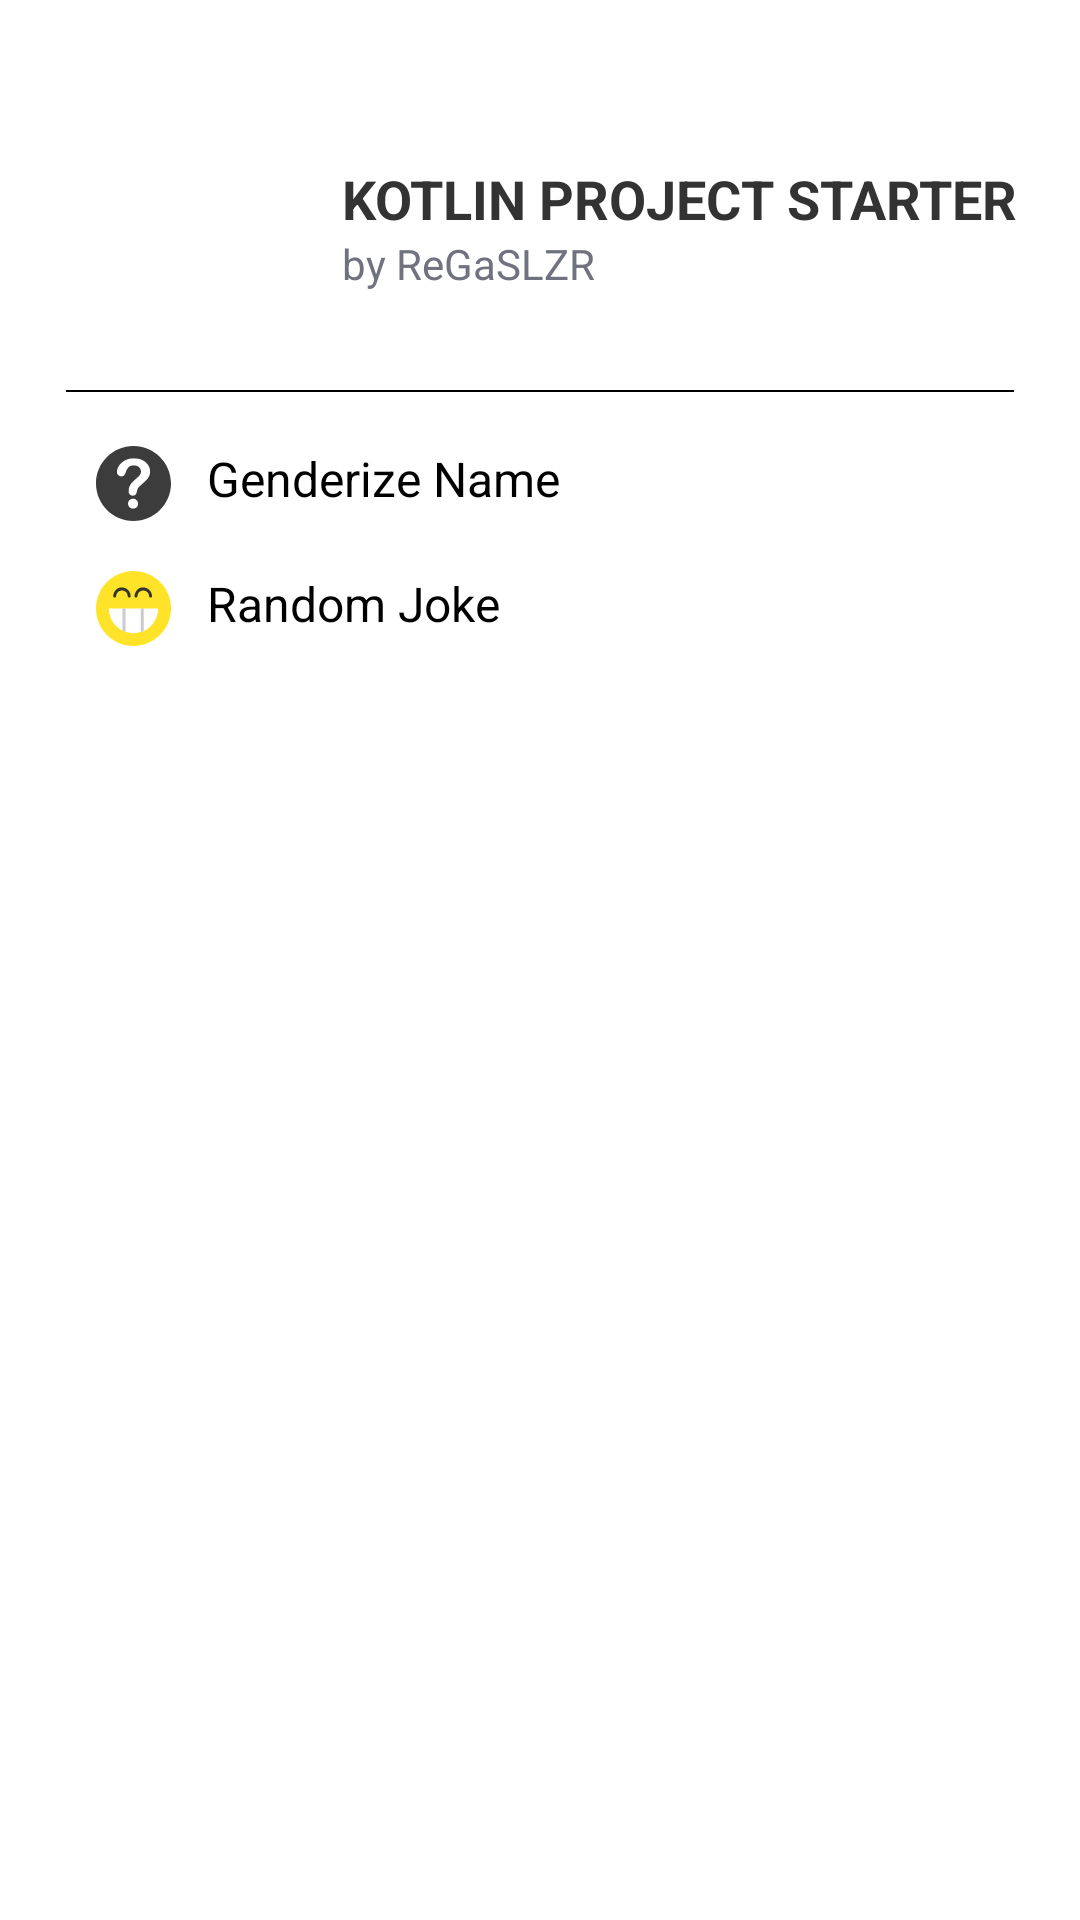

Where to tap for icons on this 1080 x 1920 app screen, as point (x, y):
av unknown: point (133, 483)
emoji happy: point (133, 608)
